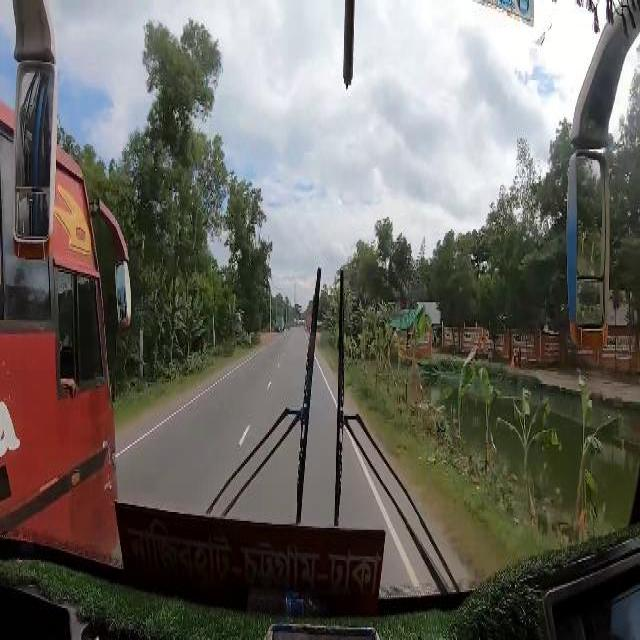vehicle: (4, 112, 133, 562)
